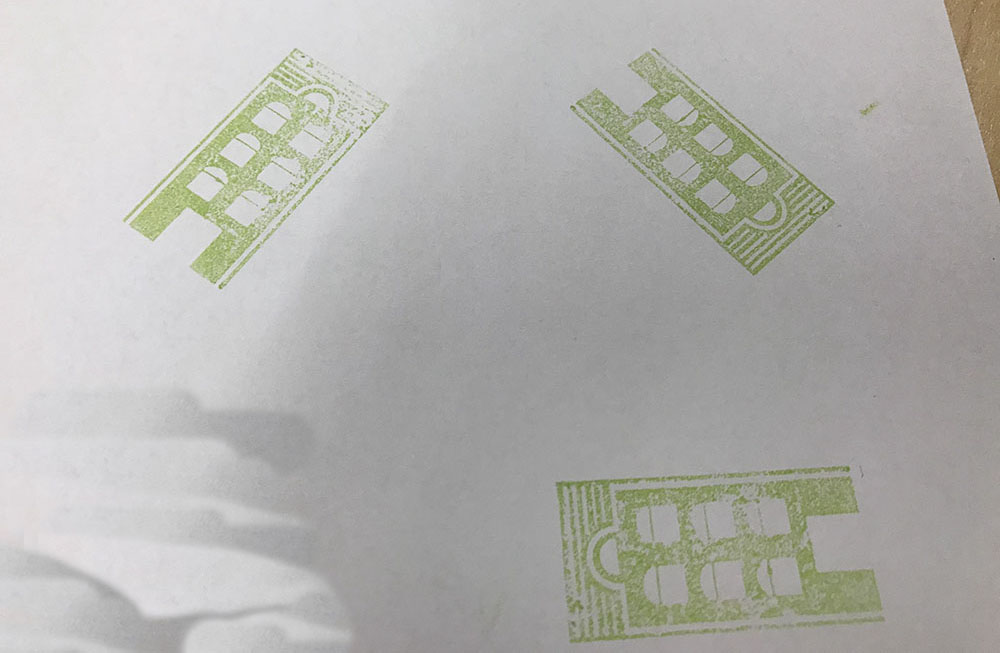build: (98, 39, 414, 307), (549, 34, 848, 298), (536, 458, 922, 650)
